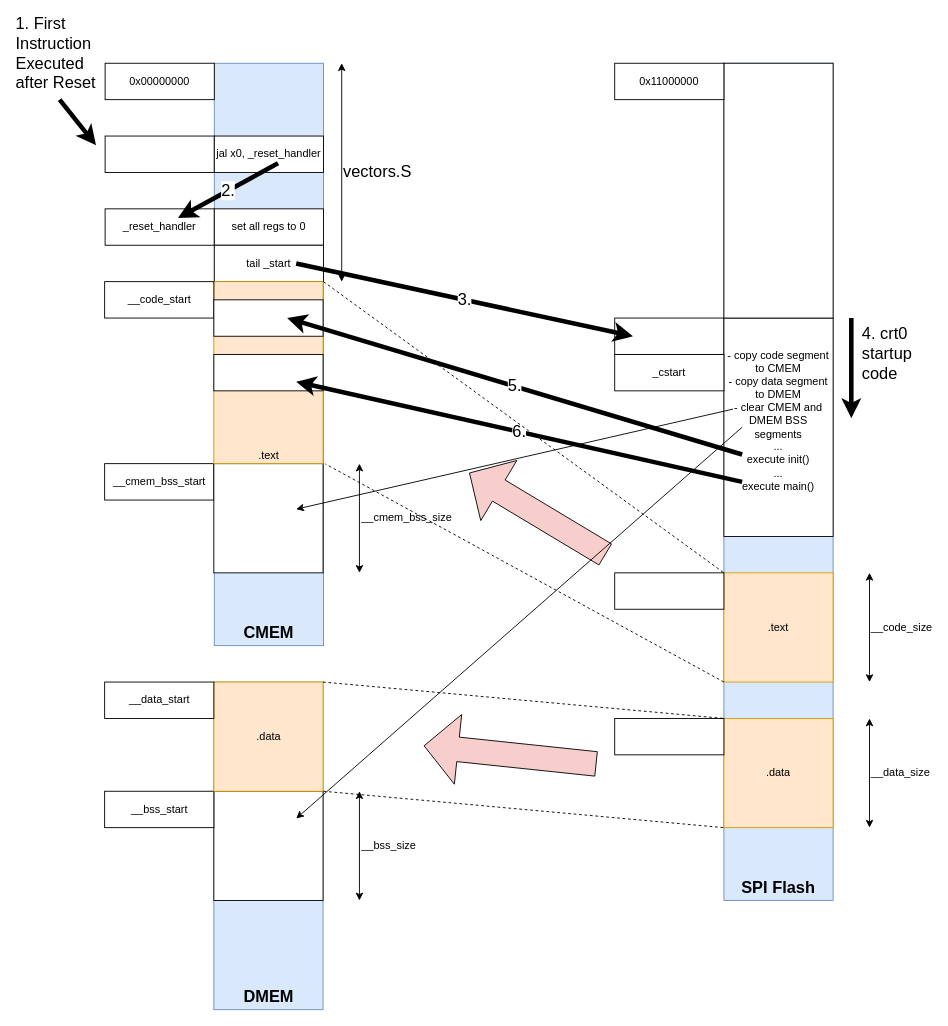
The diagram is 948 pixels wide and 1026 high, and some of its shapes have lost their labels. The centre of each missing label's shape, as x and y in pixels:
".cmem_bss" belongs at (268,518).
".tbss .bss" belongs at (268,845).
"0x00000080" belongs at (159,153).
"0x11400000 _start" belongs at (669,335).
"__code_source" belongs at (669,590).
"__data_source" belongs at (669,736).
"FPGA Bitstream" belongs at (778,190).
"init()" belongs at (268,317).
"main()" belongs at (268,372).
